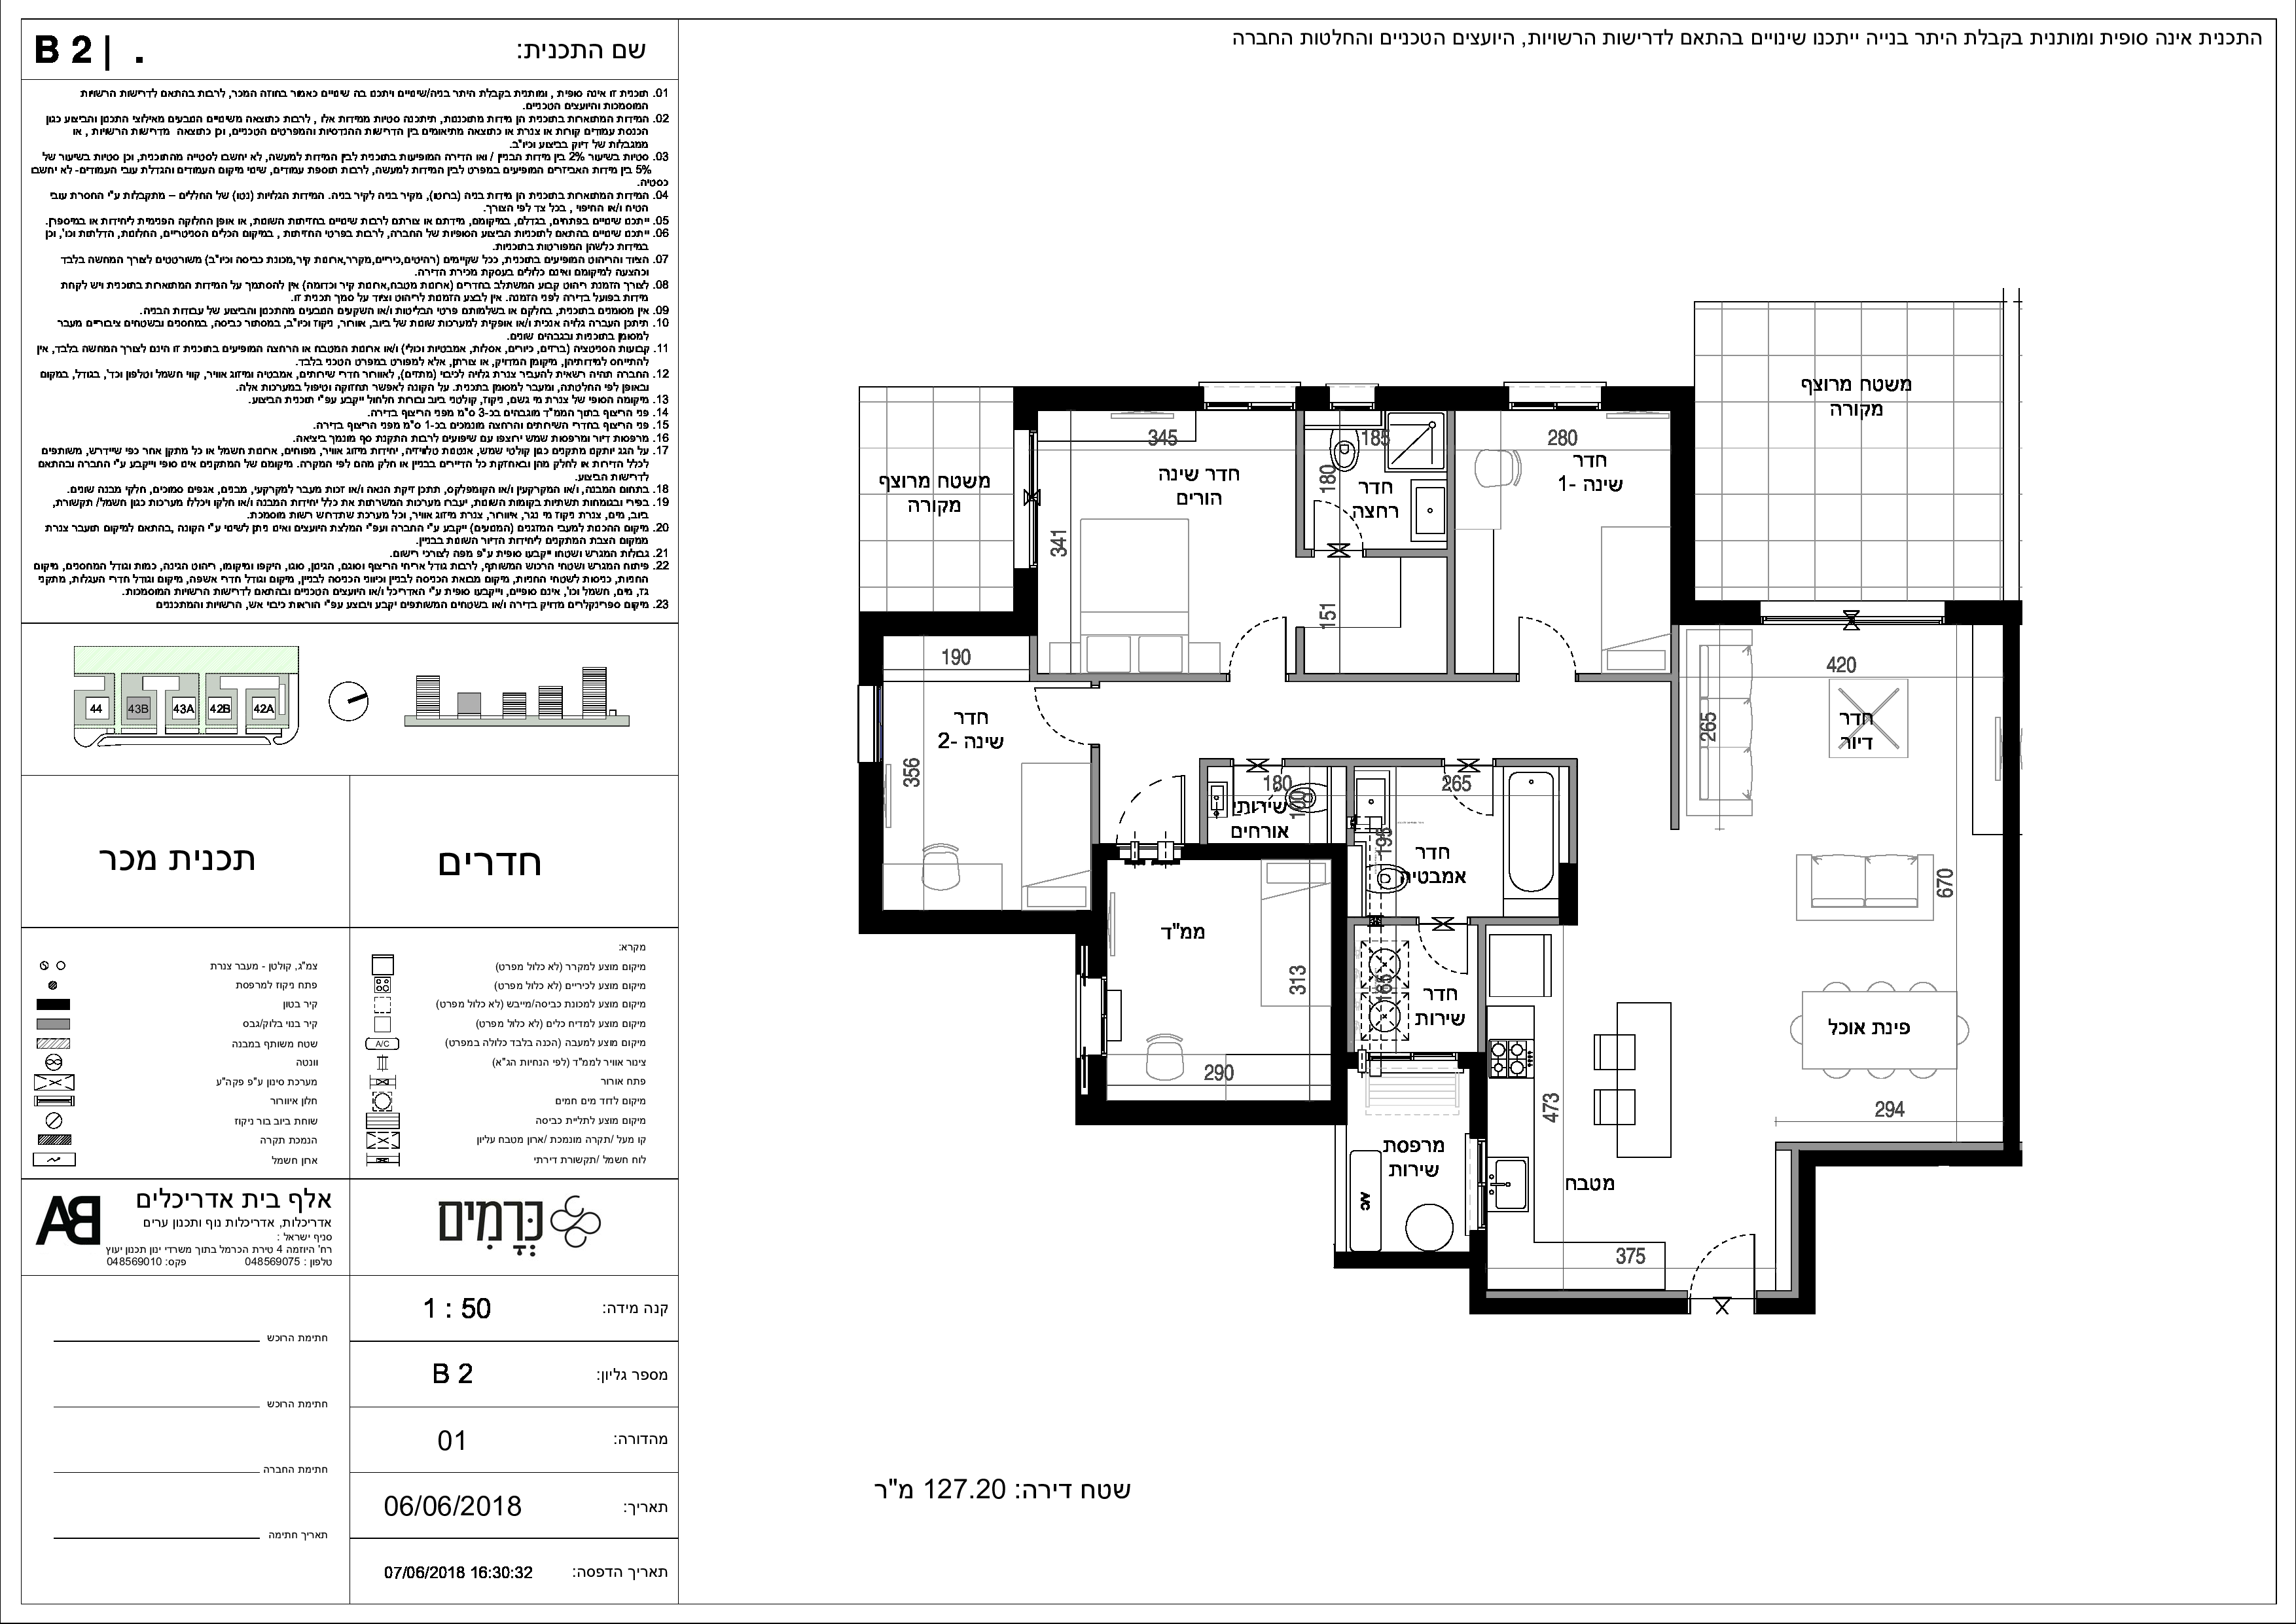door: (1112, 768, 1191, 835), (1513, 610, 1583, 664), (1224, 610, 1295, 661), (1031, 684, 1082, 752)
wall: (2004, 606, 2017, 1142), (1080, 1100, 1325, 1123), (863, 910, 1105, 932), (1672, 390, 1692, 624), (1332, 847, 1346, 1120), (1476, 1299, 1679, 1316), (1017, 388, 1195, 408), (859, 768, 880, 928), (861, 613, 1035, 633), (1804, 1151, 2018, 1165), (1339, 1253, 1486, 1269), (1801, 1153, 1815, 1311), (1678, 601, 1755, 622)
window: (1758, 599, 1946, 633), (1008, 429, 1043, 568), (1507, 376, 1602, 417), (1203, 378, 1296, 417), (1463, 1137, 1491, 1232), (856, 684, 887, 765), (1328, 380, 1375, 415)
